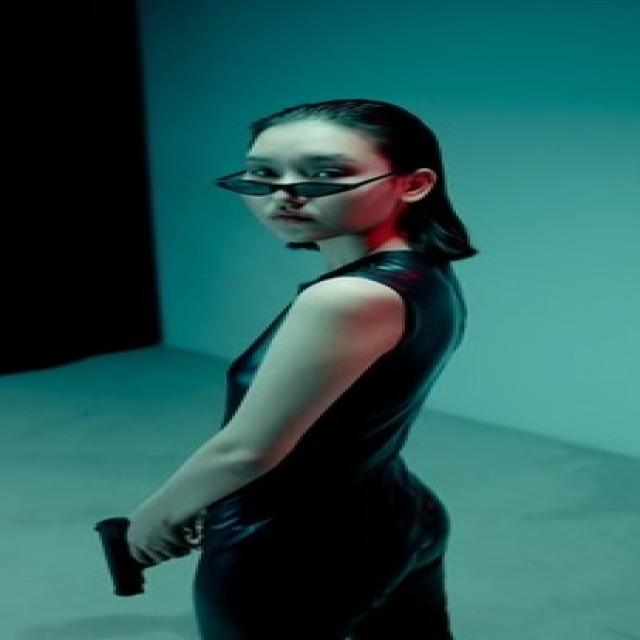Gun_Holder: (56, 507, 242, 602)
Person: (147, 102, 504, 640)
